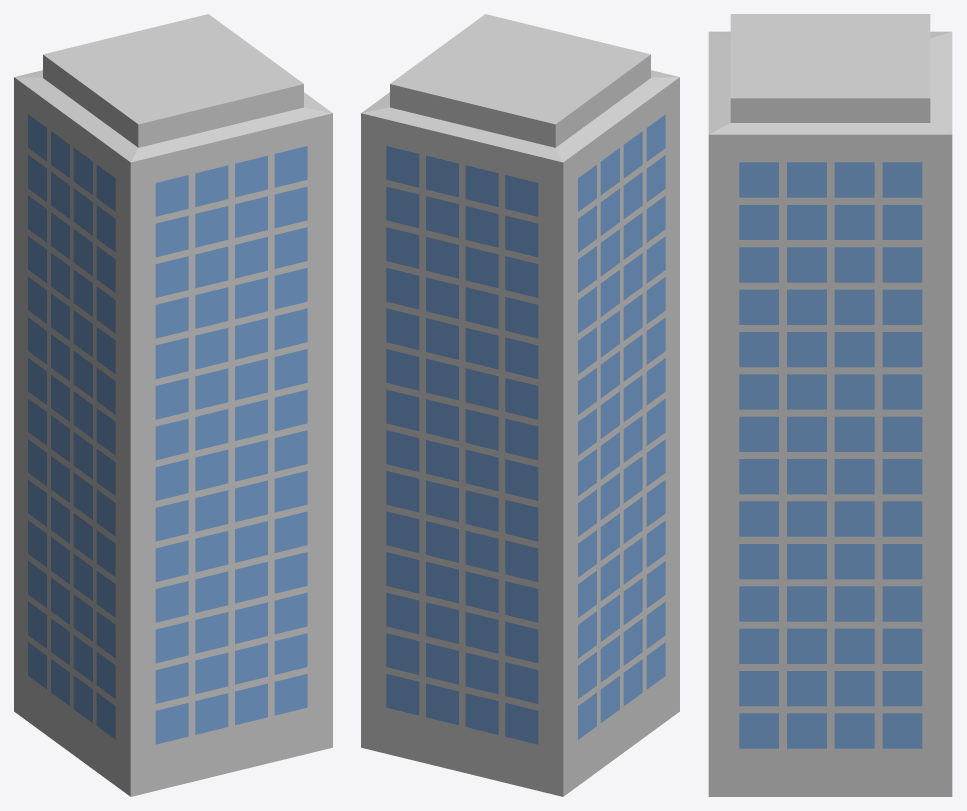
File: Building_01.fbx
3 views of the same model, side by side, from view 1: azimuth 30°, elevation 25°; view 2: azimuth 150°, elevation 25°; view 3: azimuth 270°, elevation 25° (orthographic). The views are drawn at different scales.
Parts seen in each view (by area): view 1: Building_01; view 2: Building_01; view 3: Building_01.
Part boxes in pixels (x1,y1,x2,y2): Building_01: [14, 14, 332, 796]; Building_01: [361, 14, 679, 796]; Building_01: [708, 14, 952, 796].
Bounding box in the file's own units: 789 × 2454 × 789.
